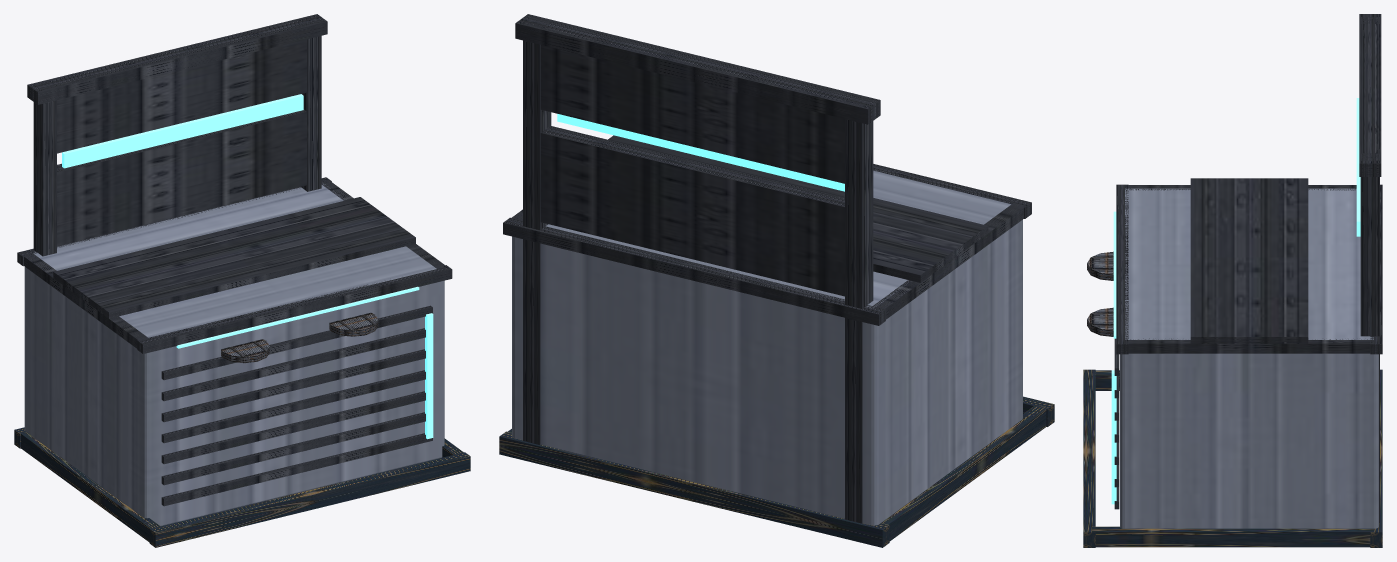
File: cam_servercab.glb
The picture shows the model from 3 angles, left to right: view 1: azimuth 30°, elevation 25°; view 2: azimuth 150°, elevation 25°; view 3: azimuth 270°, elevation 25°; orthographic projection. The views are drawn at different scales.
Parts seen in each view (by area): view 1: body, sight_shell, top, shelltoe0, shellrim0, sightglow, shelltoes0, louver0, louver1, louver4, louver2, louver3 (+9 smaller); view 2: body, sight_shell, shelltoe2, top, shellrim2, shelltoes0, shellrims0, sightglow, shellrim0; view 3: body, top, sight_shell, shelltoes2, shellrims2, shelltoe0, shellrim0, shelltoe2, ledstrip, shellrim2, fan0, fan1 (+4 smaller).
Part boxes in pixels (x1,y1,x2,y2): body: (24,183,444,526); sight_shell: (27,14,327,256); top: (53,197,415,318); shelltoe0: (149,452,470,547); shellrim0: (137,265,452,353); sightglow: (62,94,303,168); shelltoes0: (19,431,160,542); louver0: (161,433,432,506); louver1: (161,412,425,485); louver4: (161,349,425,422); louver2: (161,391,425,464); louver3: (161,370,425,443); body: (512,170,1022,525); sight_shell: (515,14,880,523); shelltoe2: (499,431,889,547); top: (608,135,988,282); shellrim2: (503,217,885,325); shelltoes0: (881,405,1047,541); shellrims0: (871,203,1024,319); sightglow: (557,114,844,191); shellrim0: (873,164,1031,218); body: (1120,188,1378,528); top: (1190,178,1308,343); sight_shell: (1359,14,1381,522); shelltoes2: (1092,526,1373,547); shellrims2: (1125,338,1373,353); shelltoe0: (1083,369,1095,547); shellrim0: (1116,184,1128,354); shelltoe2: (1370,369,1382,547); ledstrip: (1111,370,1116,504); shellrim2: (1370,184,1382,354); fan0: (1087,251,1113,280); fan1: (1087,307,1113,336).
Bounding box in the file's own units: 1.57 × 1.7 × 1.22.
6 materials, 5 textured.
